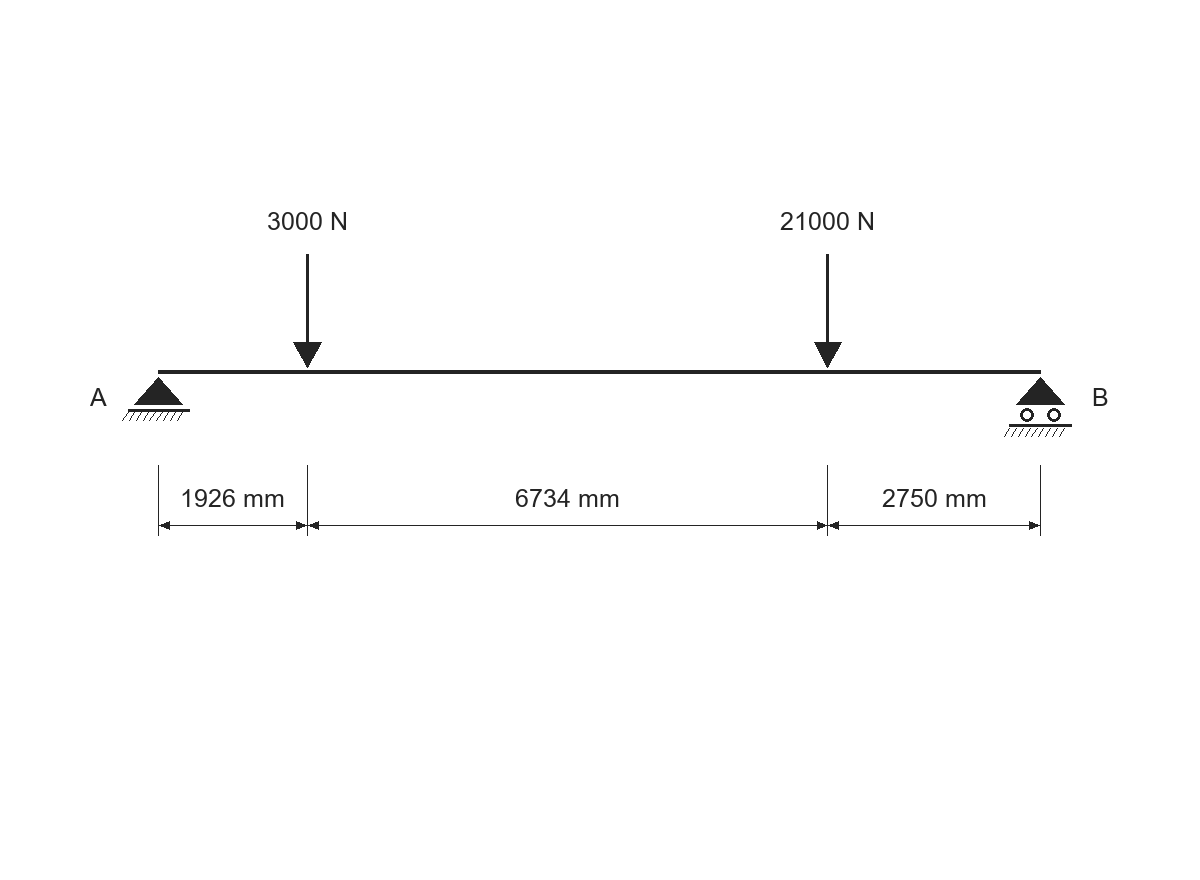pin_support: (122, 377, 190, 421)
point_load: (293, 254, 322, 368), (814, 254, 842, 368)
roller_support: (1004, 377, 1072, 437)
